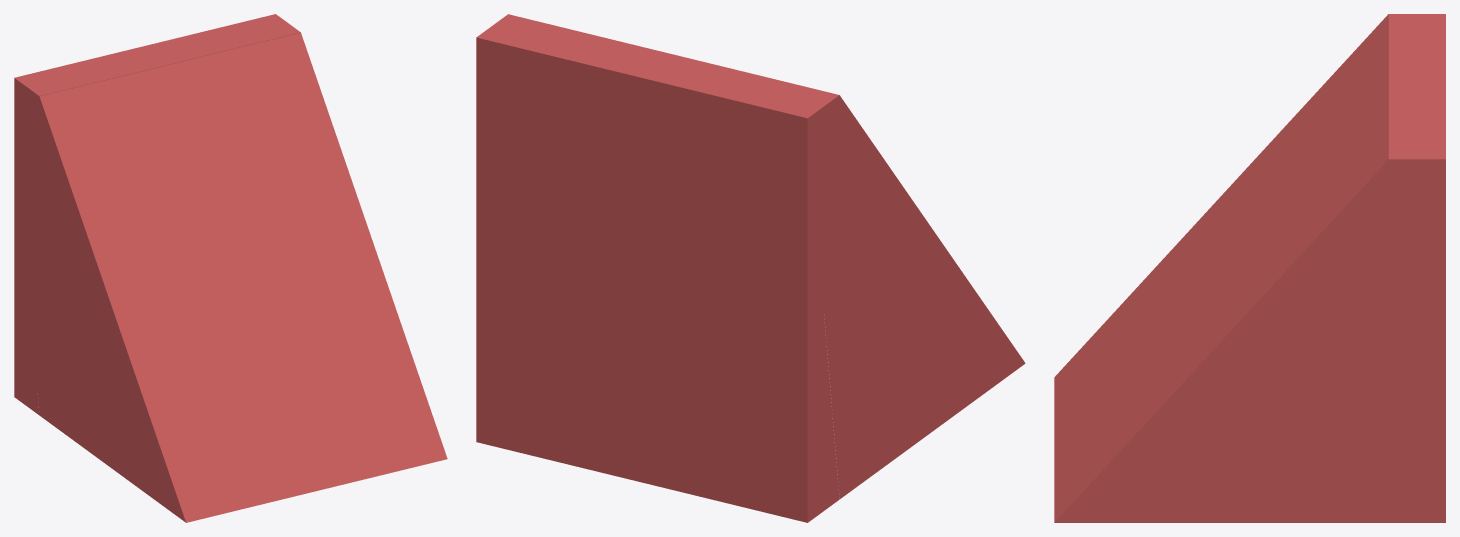
File: fm_battan.glb
3 renders of one model, left to right at view 1: azimuth 30°, elevation 25°; view 2: azimuth 150°, elevation 25°; view 3: azimuth 270°, elevation 25°, orthographic. The views are drawn at different scales.
Parts seen in each view (by area): view 1: fm_battan_col; view 2: fm_battan_col; view 3: fm_battan_col.
Boxes of the visible parts, bbox=[...] form: fm_battan_col: bbox=[14, 14, 447, 522]; fm_battan_col: bbox=[476, 14, 1025, 522]; fm_battan_col: bbox=[1054, 14, 1445, 522].
Size of the model in its own units: 0.6017 by 0.7 by 0.6835.
